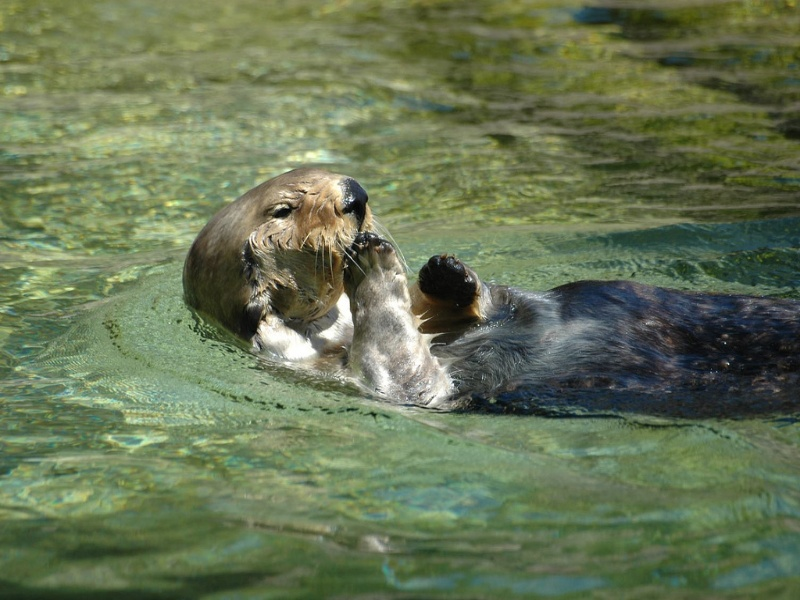minkish: (166, 162, 793, 430)
